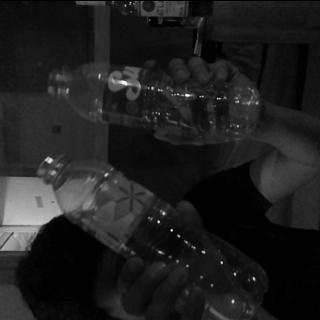plastic_bottles: (38, 146, 270, 320), (45, 57, 264, 141)
